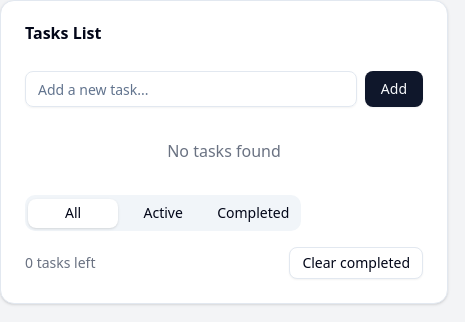
TodoFeature › adds and displays new todo
This screenshot has width=465, height=322.
In the field with placeholder "Add a new task...": {"x": 191, "y": 89} [25,71,357,107], type "Test task"
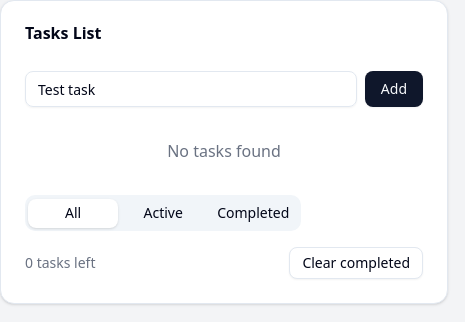
Click the button "Add": {"x": 394, "y": 89} [365,71,423,107]
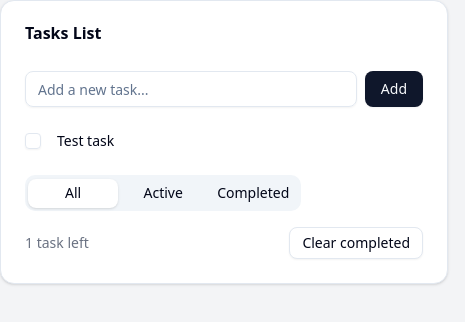
Check: the link "Test task" is shown, box [57,131,114,150]
Check: the text "1 task left" is shown, box [25,233,89,253]
